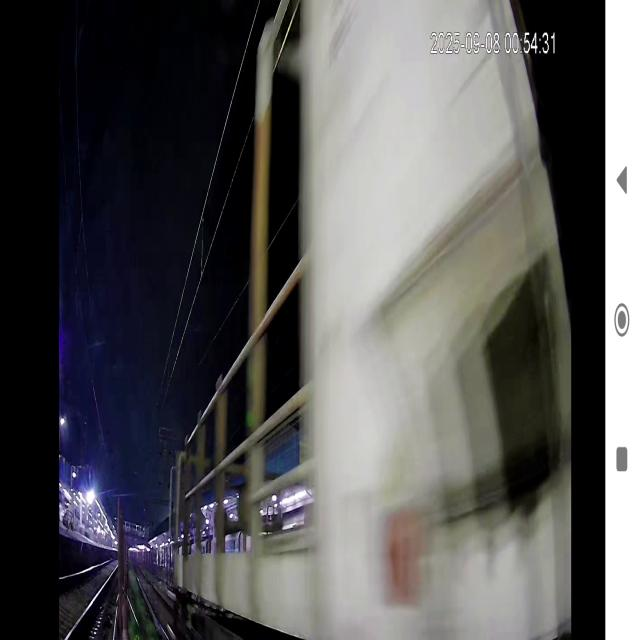brakevan: (171, 2, 555, 640)
